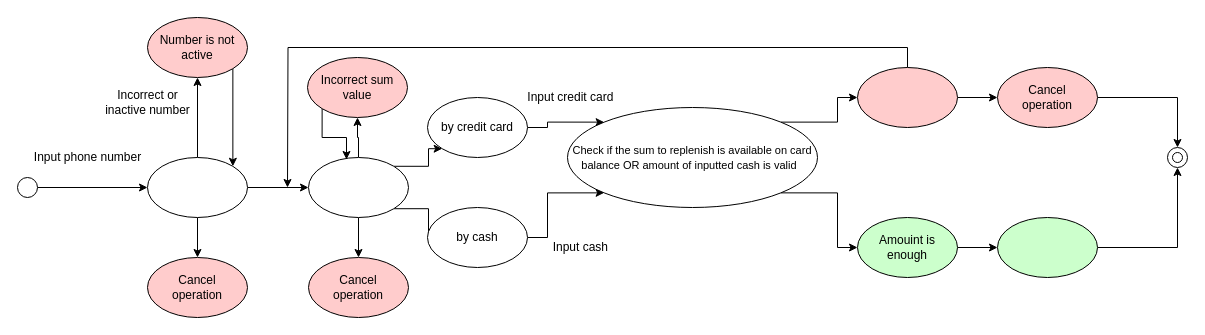
Image size: 1205x335. Some labels were removed from this diagram. The shapes that lost their labels are listed below. From the top down, each one's centre as x and y in pixels, then its label:
point (907, 97): Amount is not enough
point (197, 187): Enter a number
point (358, 187): Input sum value
point (1047, 247): Operation is successful
